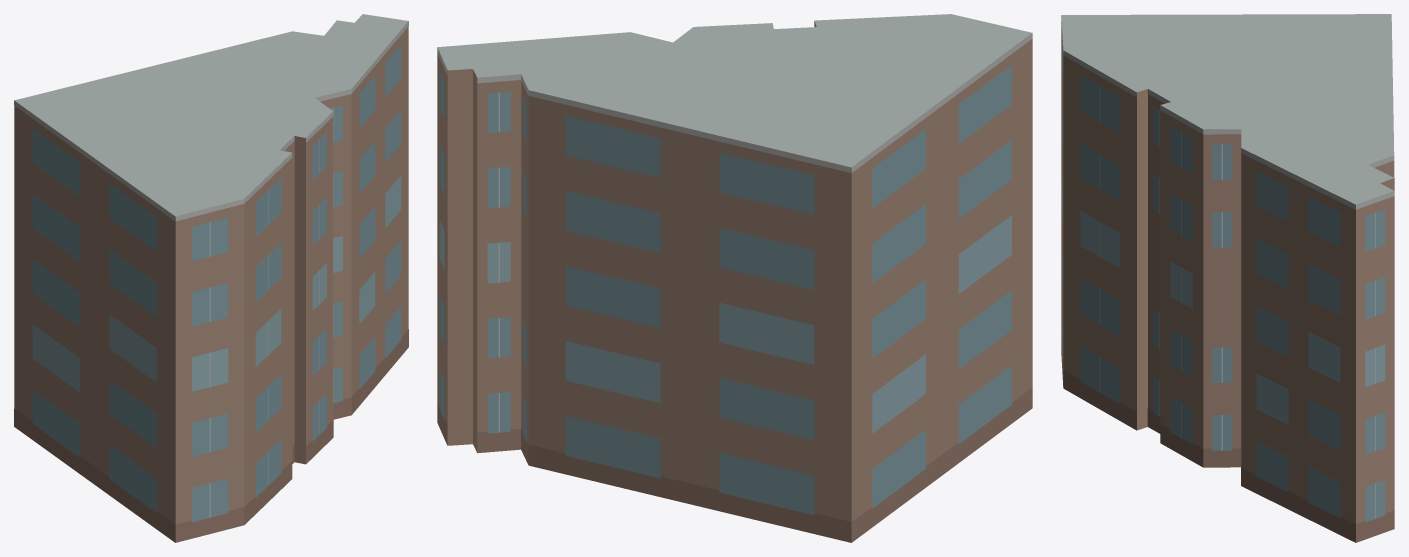
Rendered from survey-upis-32536502.glb.
3 views of the same model, side by side, from view 1: azimuth 30°, elevation 25°; view 2: azimuth 150°, elevation 25°; view 3: azimuth 270°, elevation 25° (orthographic). The views are drawn at different scales.
Parts seen in each view (by area): view 1: survey-upis-32536502.tmp; view 2: survey-upis-32536502.tmp; view 3: survey-upis-32536502.tmp.
Boxes of the visible parts, left/top/right/bottom form: survey-upis-32536502.tmp: left=14, top=14, right=408, bottom=542; survey-upis-32536502.tmp: left=437, top=14, right=1032, bottom=542; survey-upis-32536502.tmp: left=1061, top=14, right=1394, bottom=542.
Size of the model in its own units: 19.49 by 16.1 by 14.38.
